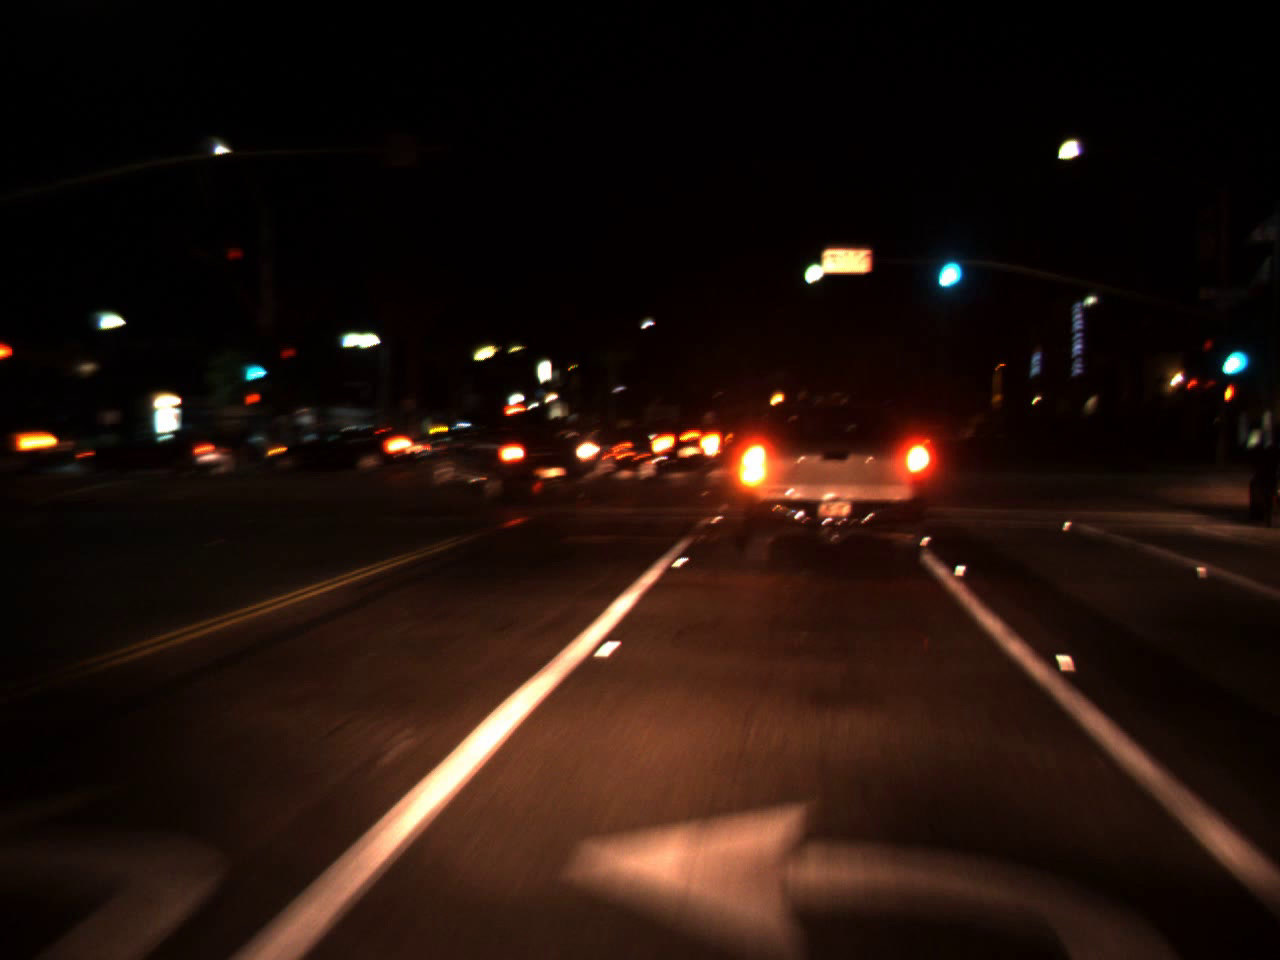go: (928, 231, 965, 297), (1219, 323, 1251, 383), (801, 243, 826, 288), (238, 351, 268, 384)
